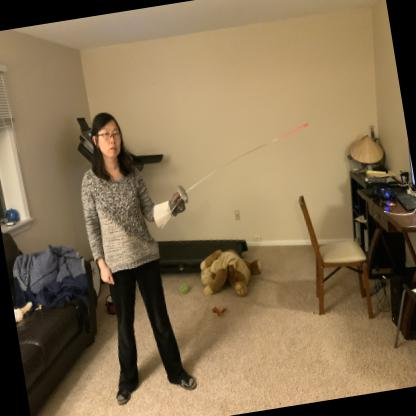foil-tip: (296, 114, 314, 136)
hand-and-foil: (144, 109, 332, 229)
